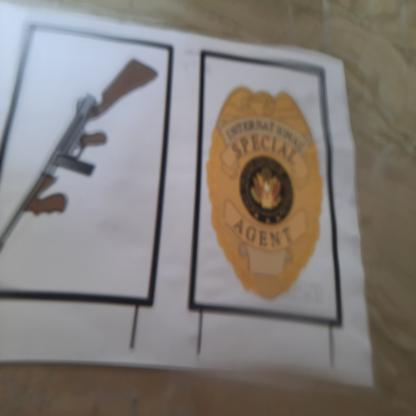Bootlegger: (3, 46, 165, 278)
G-man: (202, 79, 330, 312)
